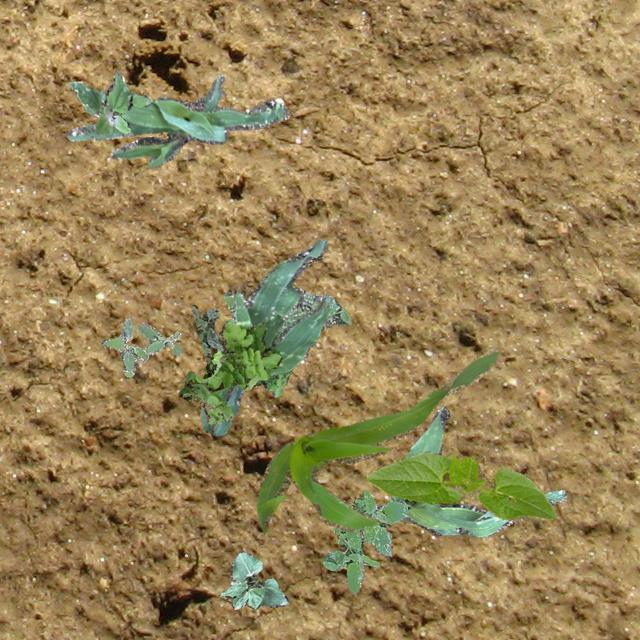crop: (255, 346, 498, 532), (375, 406, 565, 536), (212, 238, 328, 434), (65, 74, 288, 166), (366, 450, 556, 520), (218, 550, 288, 608), (201, 388, 226, 432), (202, 351, 222, 378)
weed: (178, 322, 280, 424), (322, 488, 406, 592), (214, 290, 350, 352), (68, 70, 150, 134), (100, 318, 180, 377), (252, 330, 290, 396), (190, 304, 224, 368)
